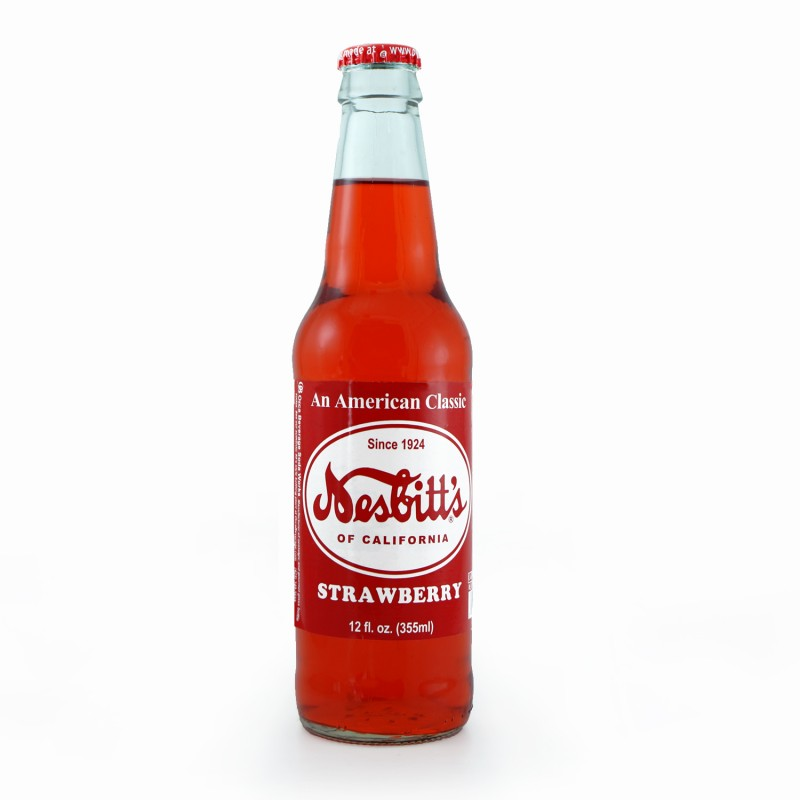Rec_Glass: (285, 35, 483, 755)
